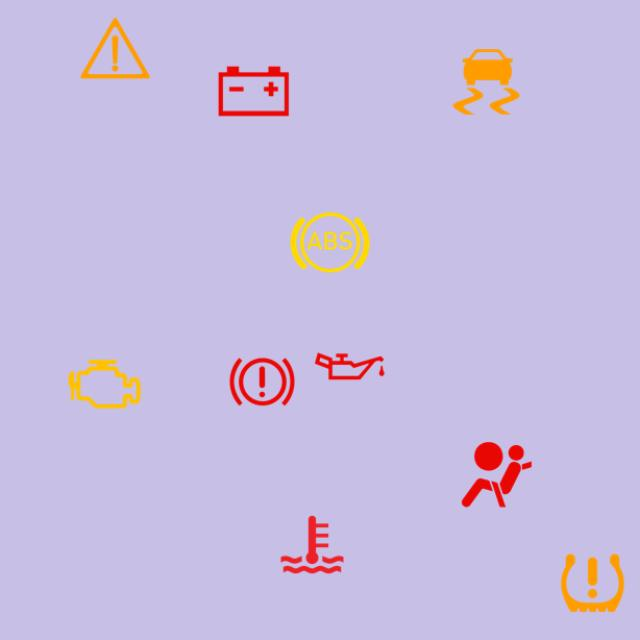Anti Lock Braking System: (287, 199, 373, 286)
Braking System Issue: (219, 339, 305, 425)
Charging System Issue: (211, 48, 297, 134)
Check Engine: (62, 341, 148, 427)
Electronic Stability Problem -ESP-: (443, 39, 530, 125)
Engine Overheating Warning Light: (269, 501, 355, 588)
Low Engine Oil Warning Light: (306, 323, 393, 410)
Low Tire Pressure Warning Light: (549, 540, 636, 626)
Master warning light: (72, 5, 158, 92)
SRS-Airbag: (453, 432, 540, 518)
